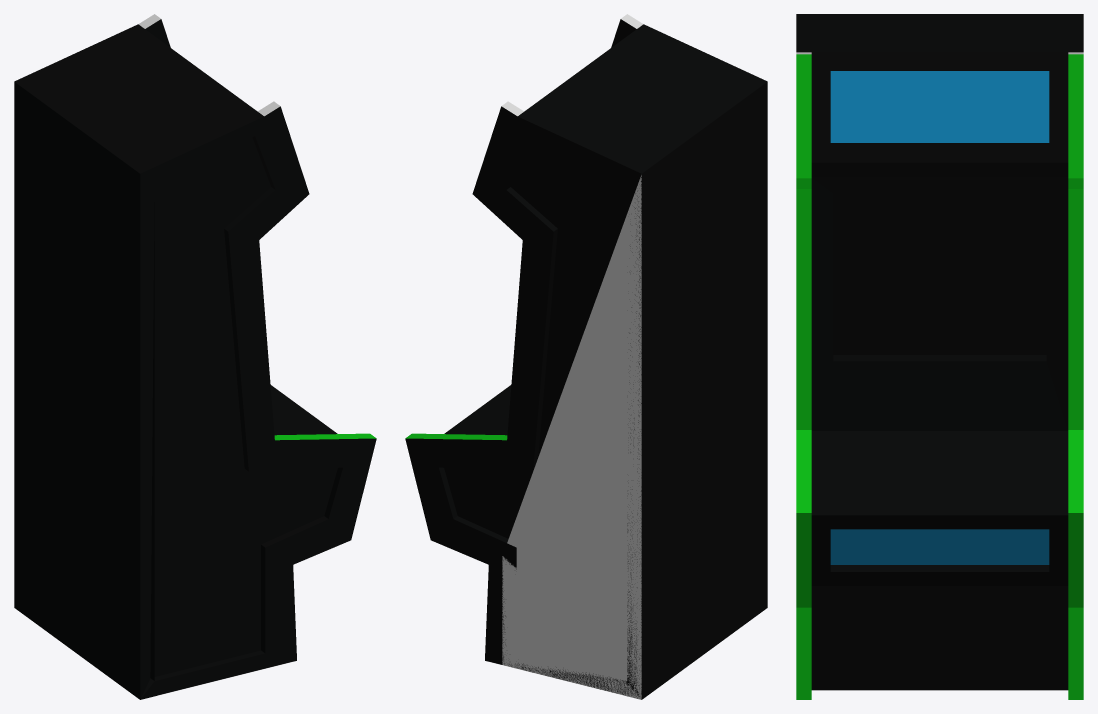
File: arcade 1.fbx
The picture shows the model from 3 angles, left to right: view 1: azimuth 30°, elevation 25°; view 2: azimuth 150°, elevation 25°; view 3: azimuth 270°, elevation 25°; orthographic projection. The views are drawn at different scales.
Parts seen in each view (by area): view 1: Arcade; view 2: Arcade; view 3: Arcade.
Boxes of the visible parts, x1=… form: Arcade: x1=14, y1=14, x2=376, y2=699; Arcade: x1=405, y1=14, x2=767, y2=699; Arcade: x1=796, y1=14, x2=1083, y2=699.
Size of the model in its own units: 269 by 608 by 248.
